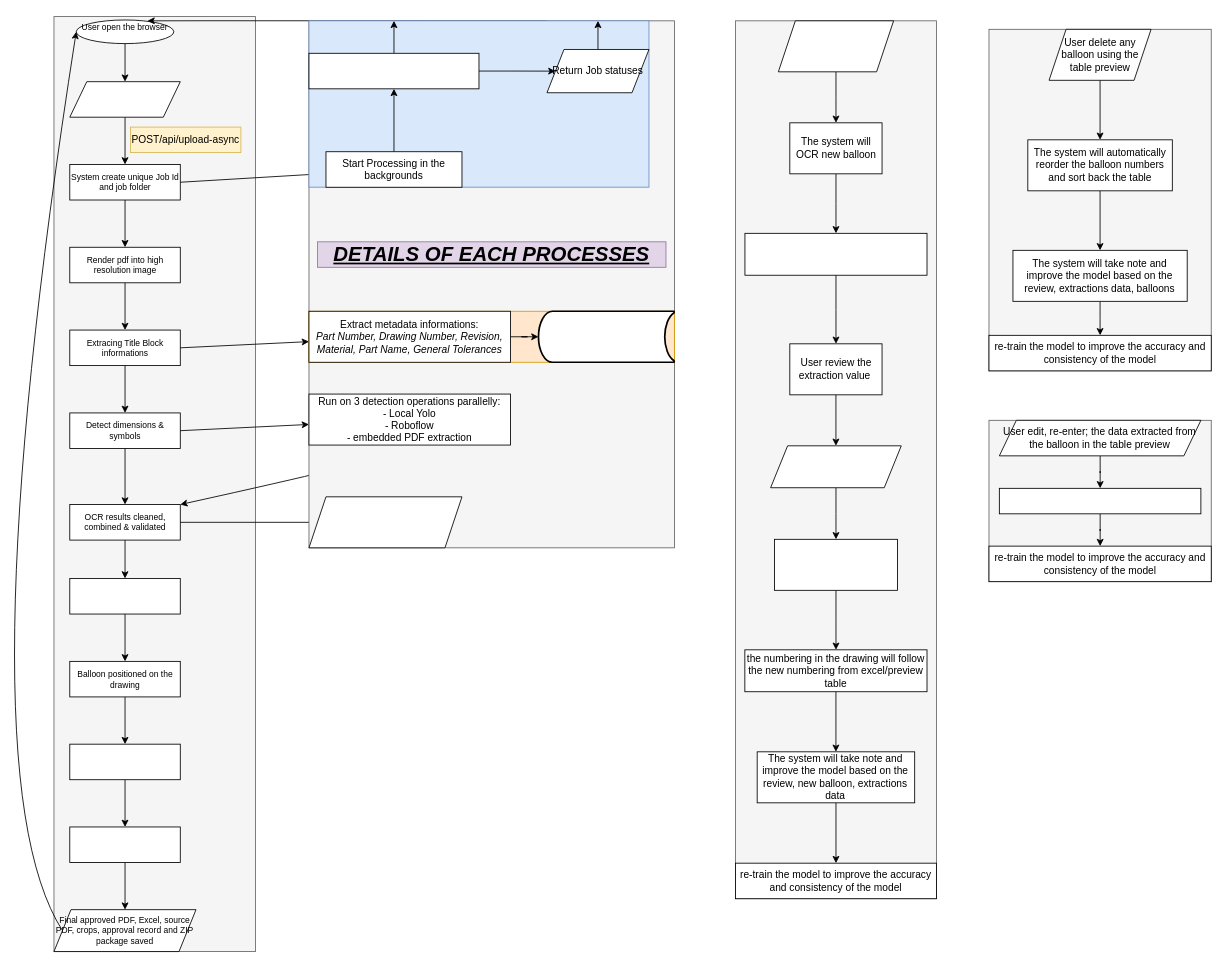
The diagram is 1227 pixels wide and 967 high, and some of its shapes have lost their labels. Each missing label, with the centre of its shape:
"- symbol_detections.xlsx - roboflow_detections.xlsx - detector_diagnostics.xlsx" belongs at (385,522).
"Extract the new balloon dimensions into the excel and preview extract table" belongs at (835,253).
"Inspection characteristics generated" belongs at (124,596).
"Regularly polls GET/api/jobs/<job_id>" belongs at (393,70).
"Stored in generated_jobs/jobs/ <job_id>/titleblock_debug/" belongs at (606,336).
"System performs quality checks" belongs at (124,844).
"The system will reorder and sort back the table" belongs at (835,564).
"update into the final report excel file" belongs at (1099,500).
"Upload drawing pdf" belongs at (124,99).
"User can add new balloon into the drawing" belongs at (835,46).
"User change the new balloon numbering" belongs at (835,466).
"User review and corrects the results" belongs at (124,761).
